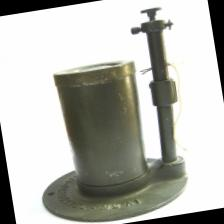M2A1: (13, 2, 205, 224)
